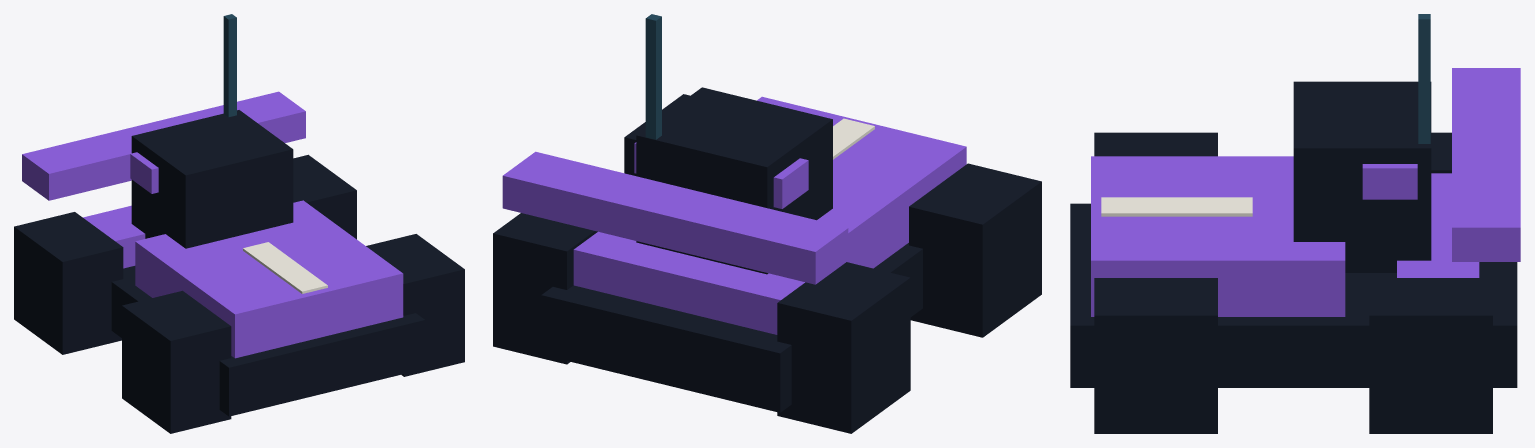
The model's file is kart-3.glb.
3 views of the same model, side by side, from view 1: azimuth 30°, elevation 25°; view 2: azimuth 150°, elevation 25°; view 3: azimuth 270°, elevation 25° (orthographic). The views are drawn at different scales.
Visible parts, largest first — view 1: track-part-3, track-part-1, track-part-2, track-part-0; view 2: track-part-3, track-part-1, track-part-0, track-part-2; view 3: track-part-3, track-part-1, track-part-2, track-part-0.
Part boxes in pixels (bbox=[...]): track-part-3: bbox=[14, 110, 464, 433]; track-part-1: bbox=[22, 91, 403, 358]; track-part-2: bbox=[243, 242, 327, 293]; track-part-0: bbox=[223, 14, 236, 117]; track-part-3: bbox=[493, 87, 1041, 433]; track-part-1: bbox=[502, 96, 966, 334]; track-part-0: bbox=[645, 14, 661, 139]; track-part-2: bbox=[833, 118, 874, 159]; track-part-3: bbox=[1070, 81, 1517, 433]; track-part-1: bbox=[1091, 68, 1520, 316]; track-part-2: bbox=[1101, 197, 1252, 216]; track-part-0: bbox=[1418, 14, 1430, 143].
Size of the model in its own units: 0.63 by 0.565 by 0.655.
